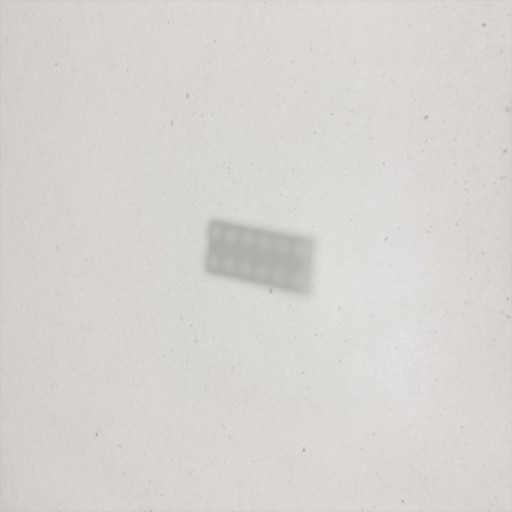lego: (202, 217, 319, 298)
